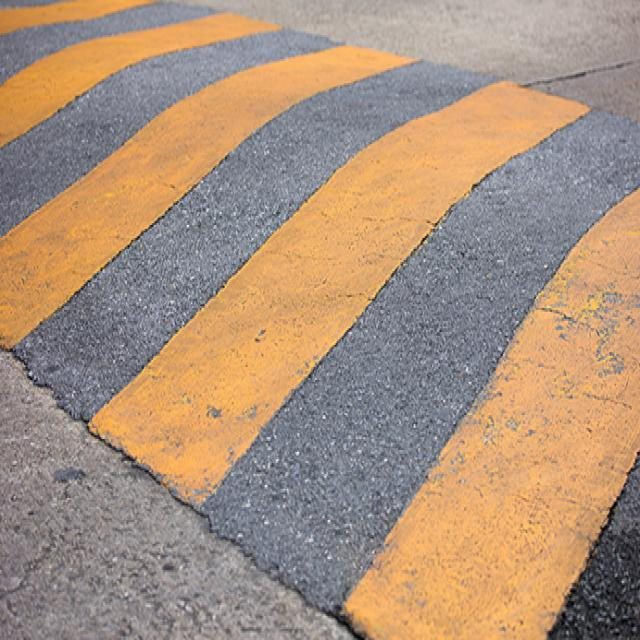speedbreaker: (0, 21, 628, 609)
